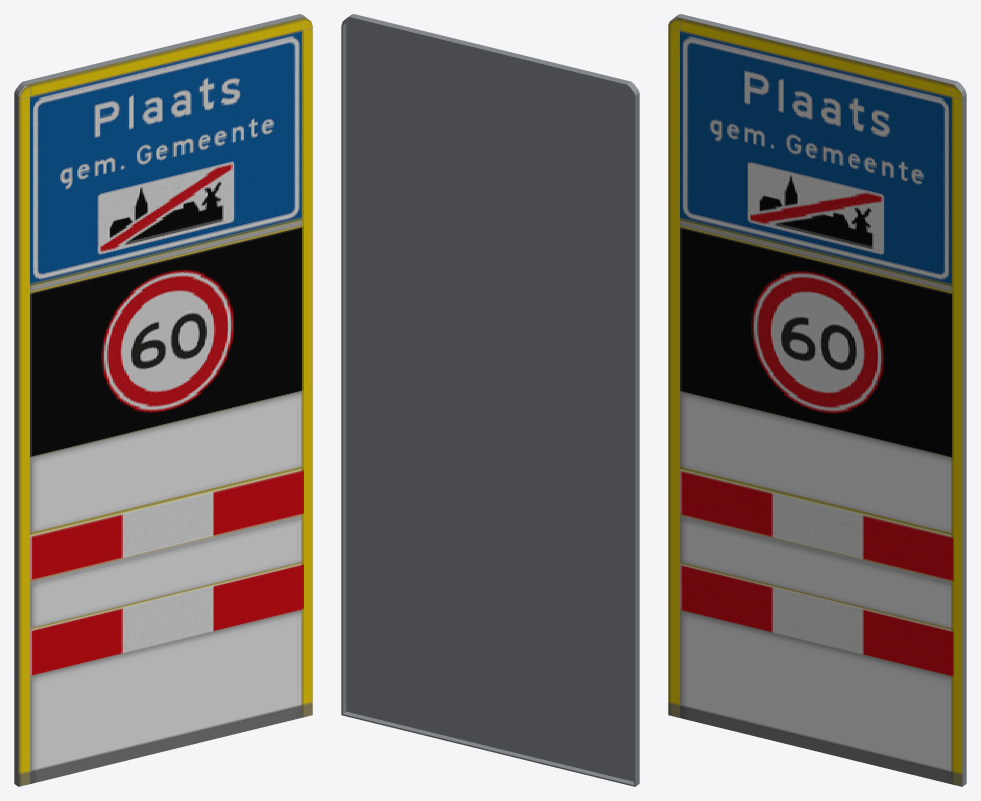
The picture shows the model from 3 angles, left to right: view 1: azimuth 30°, elevation 25°; view 2: azimuth 150°, elevation 25°; view 3: azimuth 330°, elevation 25°; orthographic projection.
Visible parts, largest first — view 1: cat_ac8bc92573922f1a; view 2: cat_ac8bc92573922f1a; view 3: cat_ac8bc92573922f1a.
Part boxes in pixels (left/top/right/bottom): cat_ac8bc92573922f1a: left=14, top=14, right=312, bottom=786; cat_ac8bc92573922f1a: left=341, top=14, right=639, bottom=786; cat_ac8bc92573922f1a: left=668, top=14, right=966, bottom=786.
Size of the model in its own units: 0.6 by 0.015 by 1.37.
2 materials, 1 textured.
